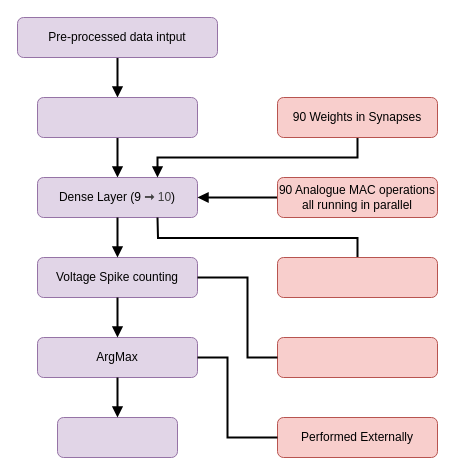
The diagram is 455 pixels wide and 475 high, and some of its shapes have lost their labels. Here are the shapes that lost their labels. From the top down, the centre of each, then its label:
At point 117,117: "DAC controlled current sources".
At point 357,277: "9 Neurons ➞ 90 Synapses ➞ 10 Neurons".
At point 357,357: "SR Latches ➞ Shift Registers".
At point 117,437: "Output Prediction".
